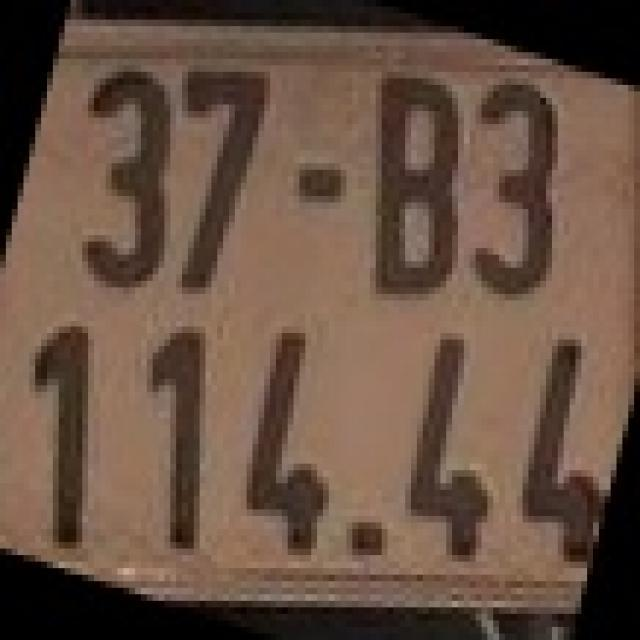1: (23, 314, 112, 548), (135, 320, 223, 555)
3: (70, 59, 176, 288), (469, 78, 564, 300)
4: (511, 326, 616, 574), (399, 326, 499, 568), (240, 320, 340, 562)
7: (176, 59, 276, 294)
B: (358, 66, 470, 300)
